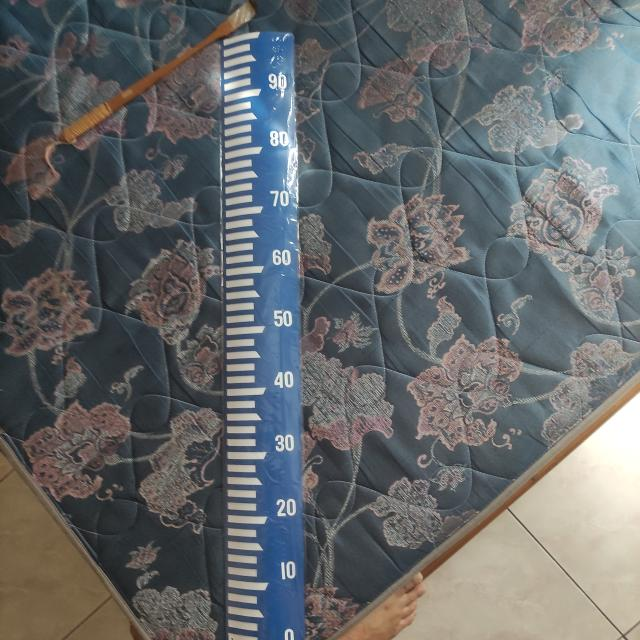ruler: (212, 17, 321, 640)
value: (266, 184, 293, 211), (269, 305, 295, 332), (271, 366, 298, 392), (266, 70, 291, 98), (274, 494, 300, 520), (276, 556, 300, 584), (273, 430, 298, 456), (269, 245, 295, 269), (268, 126, 292, 148)
